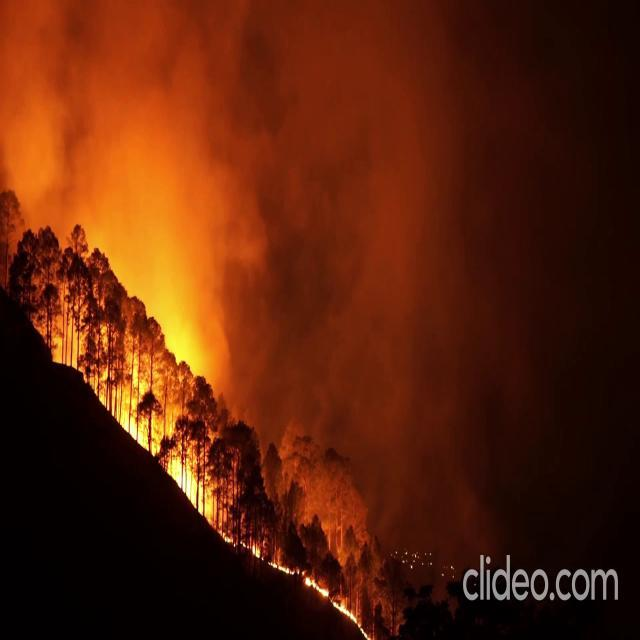Fire: (167, 458, 223, 536), (304, 572, 351, 618)
Smoke: (1, 0, 473, 511)
